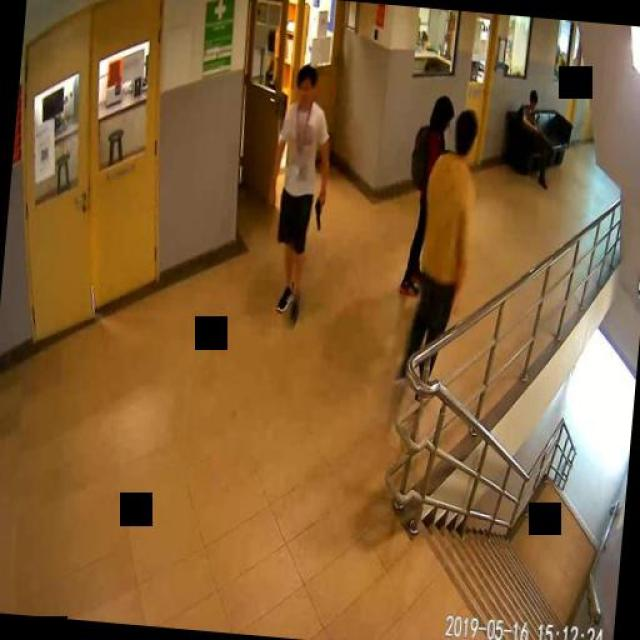gun: (311, 191, 325, 230)
